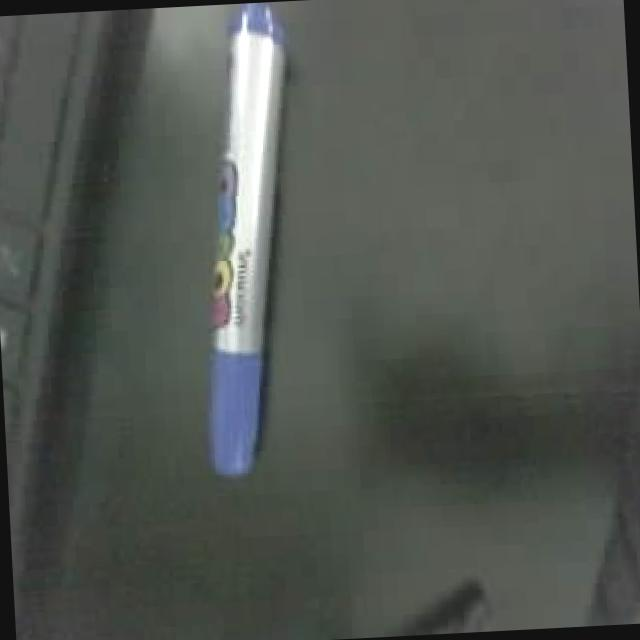board-marker: (211, 2, 287, 474)
